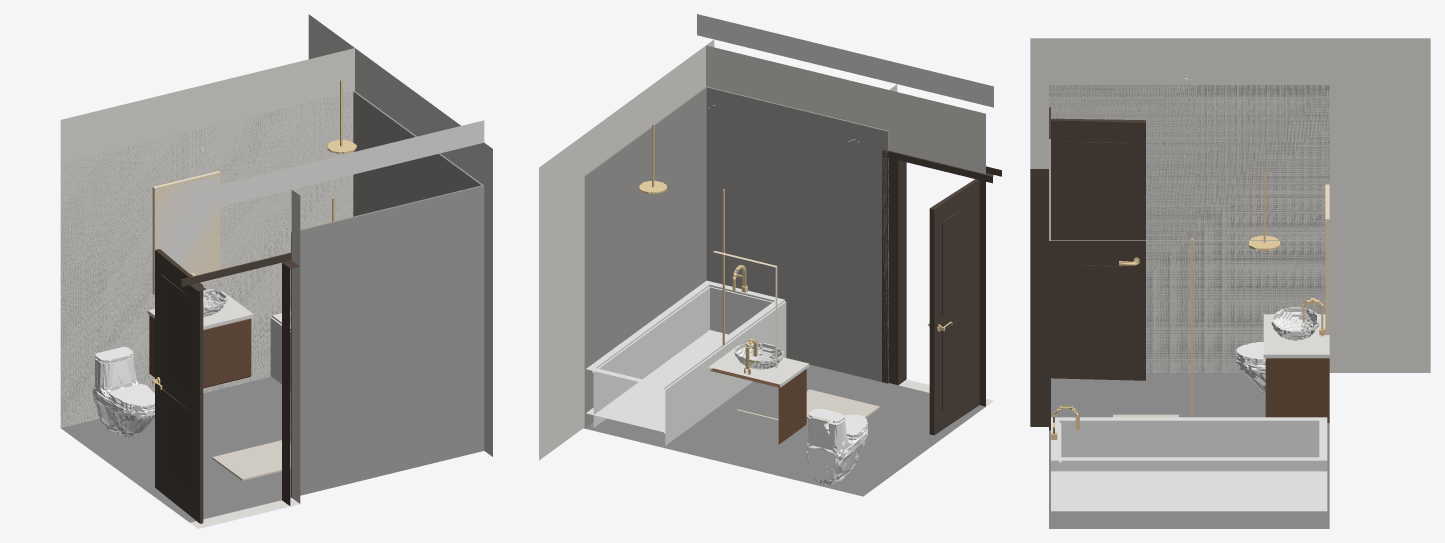
The model's file is BATH3.glb.
3 views of the same model, side by side, from view 1: azimuth 30°, elevation 25°; view 2: azimuth 150°, elevation 25°; view 3: azimuth 270°, elevation 25° (orthographic). The views are drawn at different scales.
Visible parts, largest first — view 1: WEB_BATH3; view 2: WEB_BATH3; view 3: WEB_BATH3.
Boxes of the visible parts, x1,y1,x2,y2 form: WEB_BATH3: (60, 14, 492, 528); WEB_BATH3: (539, 14, 1001, 496); WEB_BATH3: (1030, 38, 1430, 528).
Size of the model in its own units: 3.05 by 3 by 3.03.
